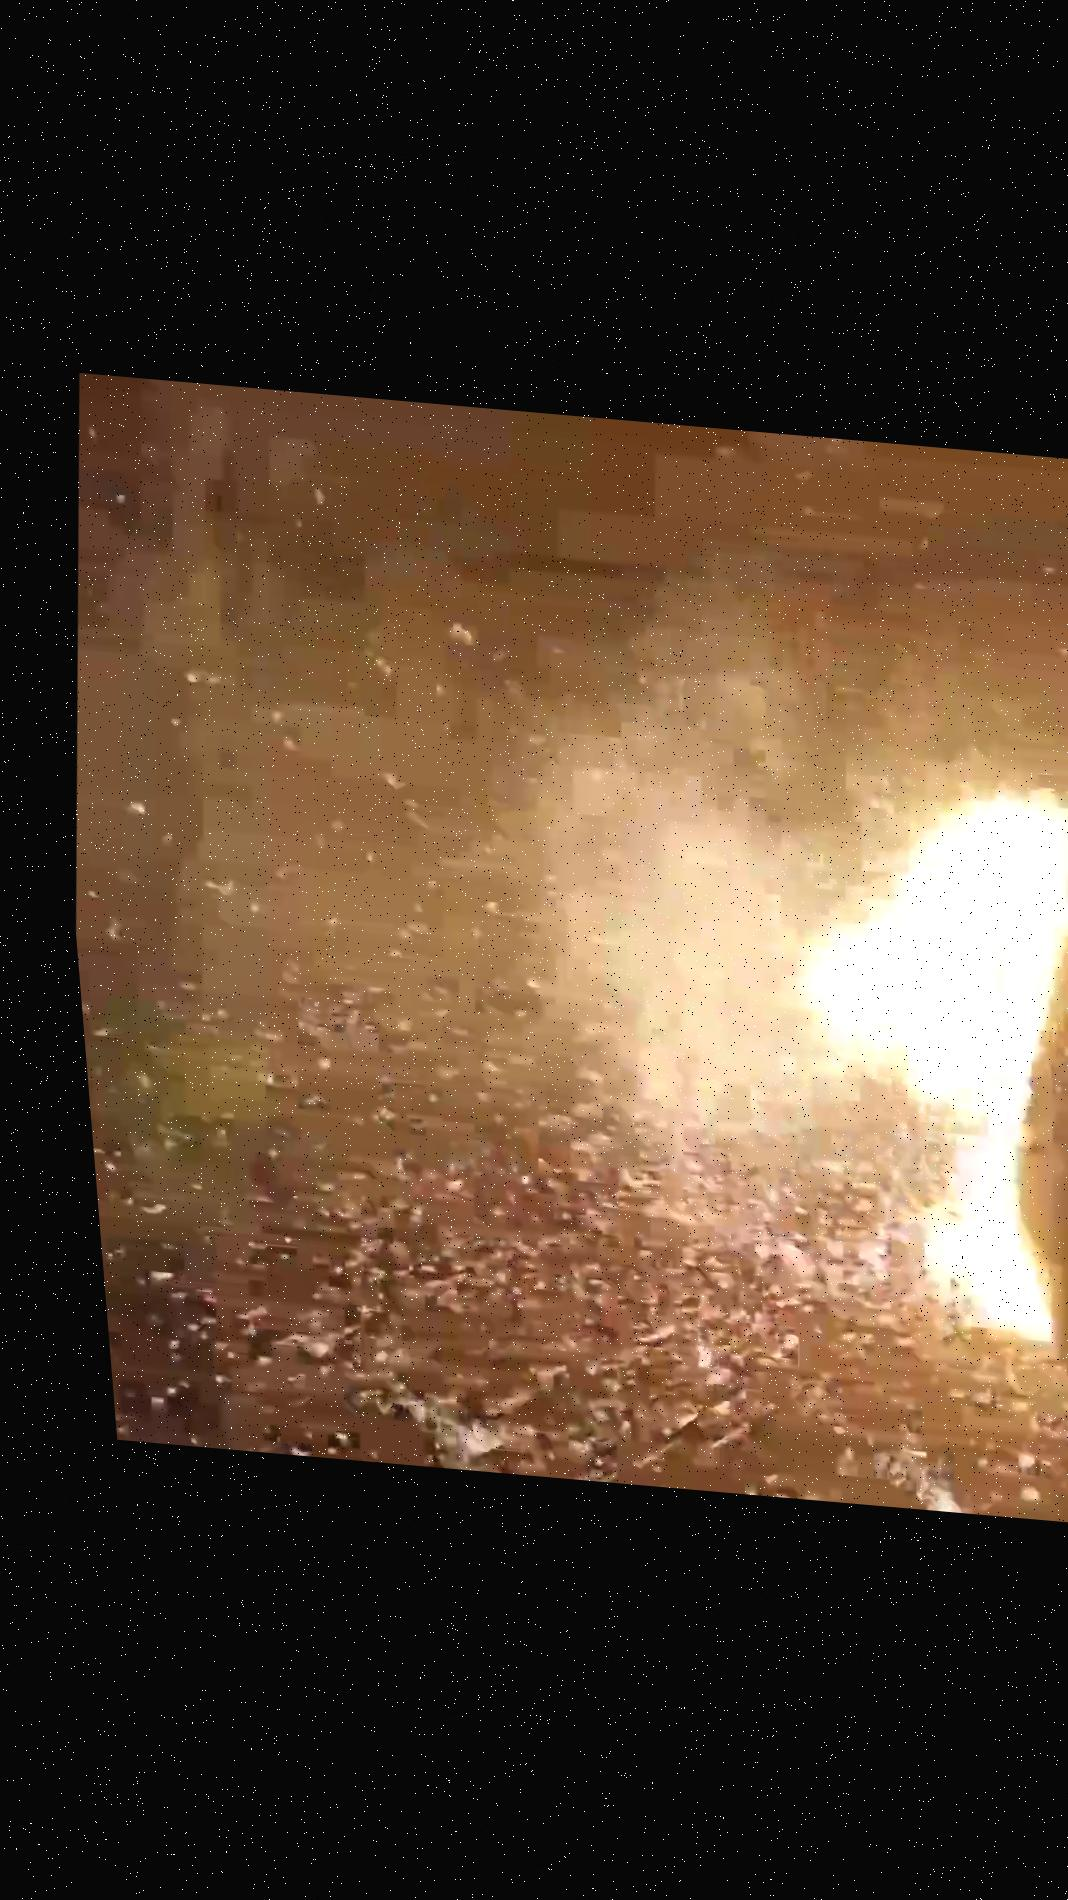fire: (111, 452, 1068, 1469)
